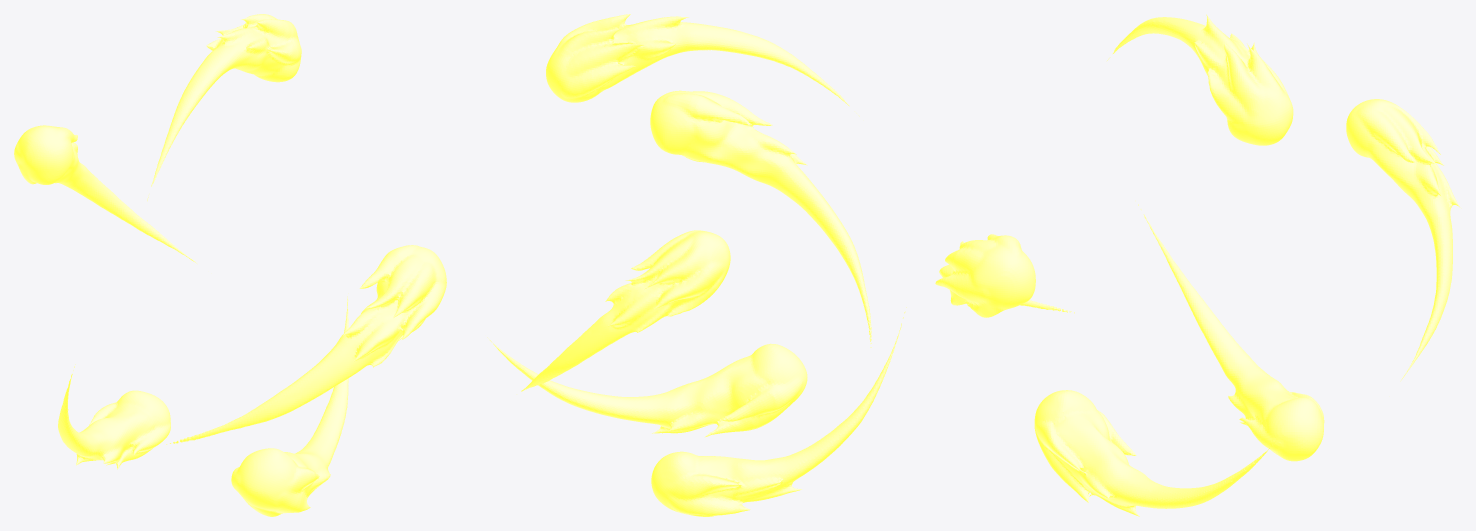
File: Comets.fbx
The picture shows the model from 3 angles, left to right: view 1: azimuth 30°, elevation 25°; view 2: azimuth 150°, elevation 25°; view 3: azimuth 270°, elevation 25°; orthographic projection. The views are drawn at different scales.
Visible parts, largest first — view 1: OpenToExp_2, OpenToExp_5, OpenToExp_4, OpenToExp_3, OpenToExp_1; view 2: OpenToExp_2, OpenToExp_5, OpenToExp_4, OpenToExp_1, OpenToExp_3; view 3: OpenToExp_5, OpenToExp_1, OpenToExp_4, OpenToExp_3, OpenToExp_2.
Boxes of the visible parts, bbox=[...] form: OpenToExp_2: bbox=[166, 245, 446, 444]; OpenToExp_5: bbox=[231, 296, 348, 516]; OpenToExp_4: bbox=[147, 14, 301, 201]; OpenToExp_3: bbox=[58, 364, 170, 469]; OpenToExp_1: bbox=[14, 125, 196, 263]; OpenToExp_2: bbox=[650, 90, 871, 347]; OpenToExp_5: bbox=[487, 337, 807, 437]; OpenToExp_4: bbox=[546, 14, 859, 116]; OpenToExp_1: bbox=[521, 230, 730, 391]; OpenToExp_3: bbox=[651, 307, 906, 516]; OpenToExp_5: bbox=[1034, 390, 1275, 516]; OpenToExp_1: bbox=[1346, 99, 1460, 381]; OpenToExp_4: bbox=[1107, 14, 1293, 145]; OpenToExp_3: bbox=[1135, 200, 1324, 461]; OpenToExp_2: bbox=[935, 234, 1074, 317].
Size of the model in its own units: 1750 by 2150 by 2181.
